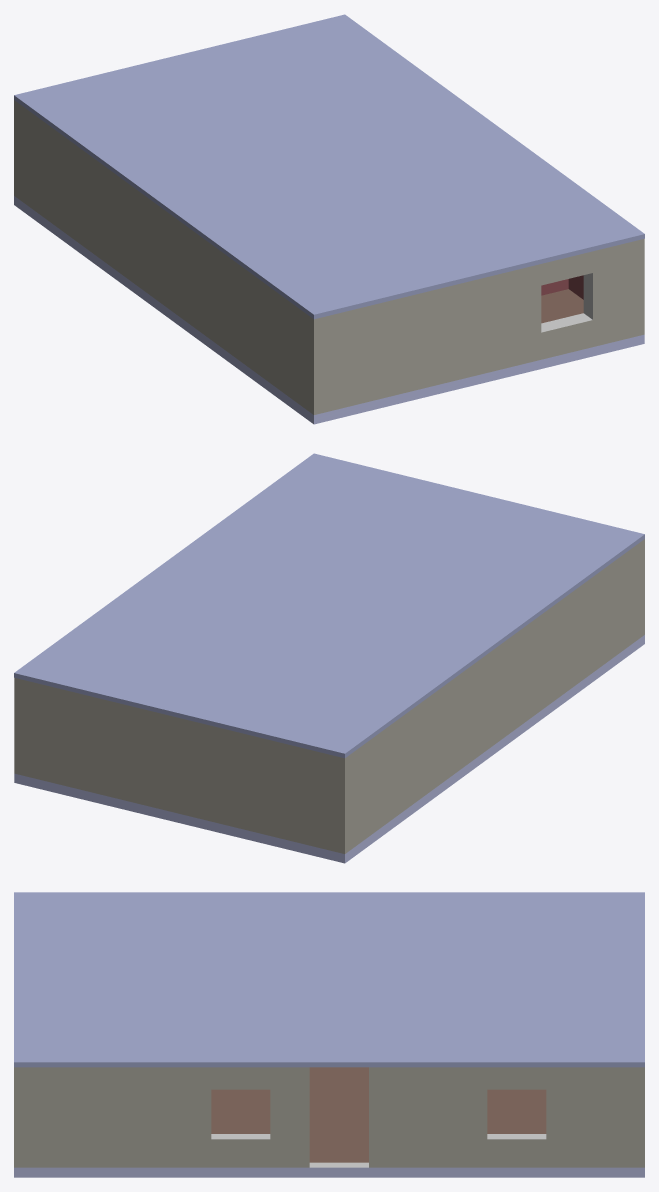
The model's file is Building_One.fbx.
3 renders of one model, top to bottom at view 1: azimuth 30°, elevation 25°; view 2: azimuth 150°, elevation 25°; view 3: azimuth 270°, elevation 25°, orthographic. The views are drawn at different scales.
Visible parts, largest first — view 1: Cube; view 2: Cube; view 3: Cube.
Part boxes in pixels (x1,y1,x2,y2): Cube: (14,14,644,424); Cube: (14,453,644,863); Cube: (14,892,644,1177).
Bounding box in the file's own units: 847 × 268 × 1330.
